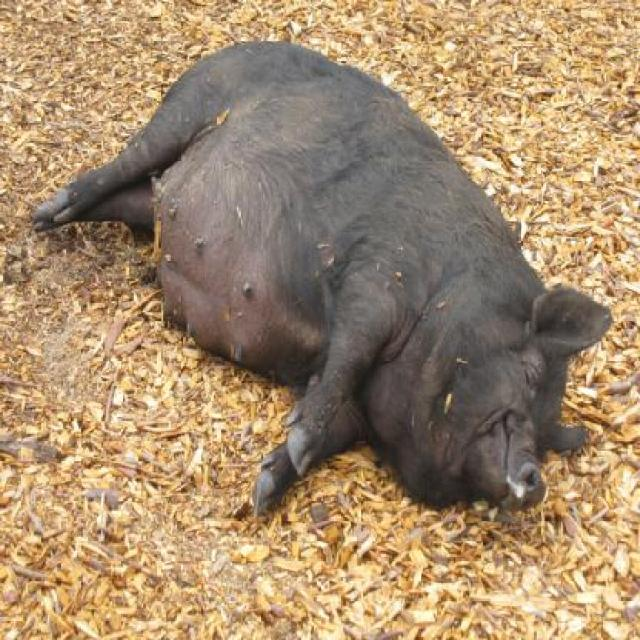pig: (31, 37, 617, 525)
